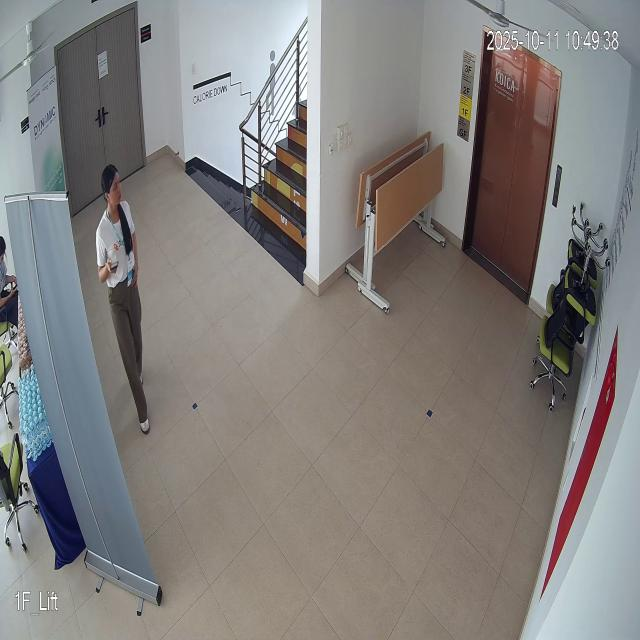face: (99, 158, 128, 218)
